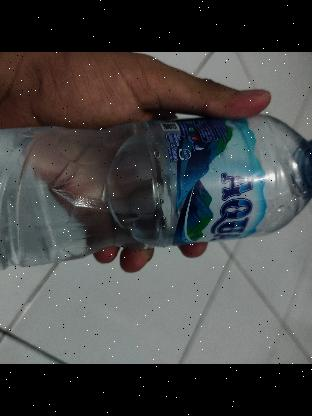Plastic Bottle: (0, 100, 312, 289)
